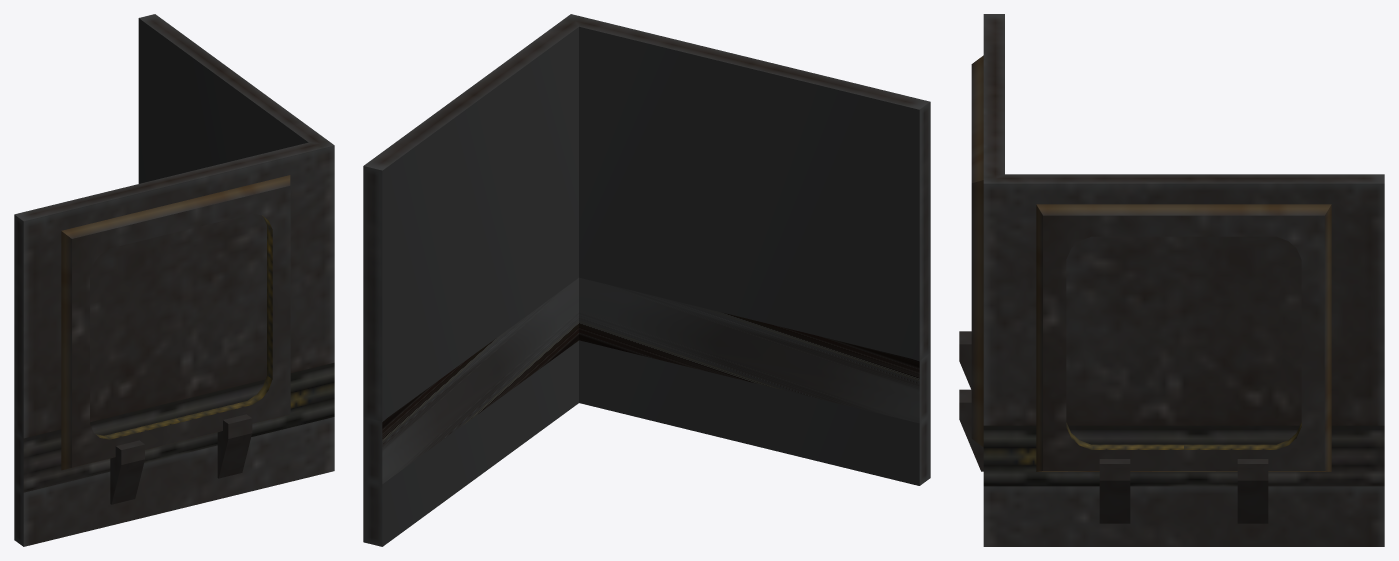
File: Wall_top_corner_out_2.FBX
The picture shows the model from 3 angles, left to right: view 1: azimuth 30°, elevation 25°; view 2: azimuth 150°, elevation 25°; view 3: azimuth 270°, elevation 25°; orthographic projection. The views are drawn at different scales.
Visible parts, largest first — view 1: Wall_top_corner_out_2; view 2: Wall_top_corner_out_2; view 3: Wall_top_corner_out_2.
Boxes of the visible parts, box(x1,y1,x2,y2) form: Wall_top_corner_out_2: box(14, 14, 334, 546); Wall_top_corner_out_2: box(363, 14, 930, 546); Wall_top_corner_out_2: box(959, 14, 1384, 546).
Bounding box in the file's own units: 318 × 300 × 318.
